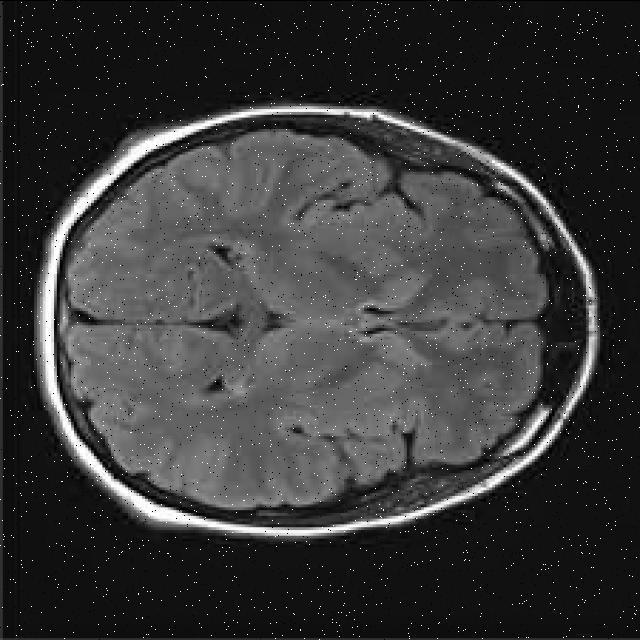No_Tumor: (37, 109, 598, 537)
